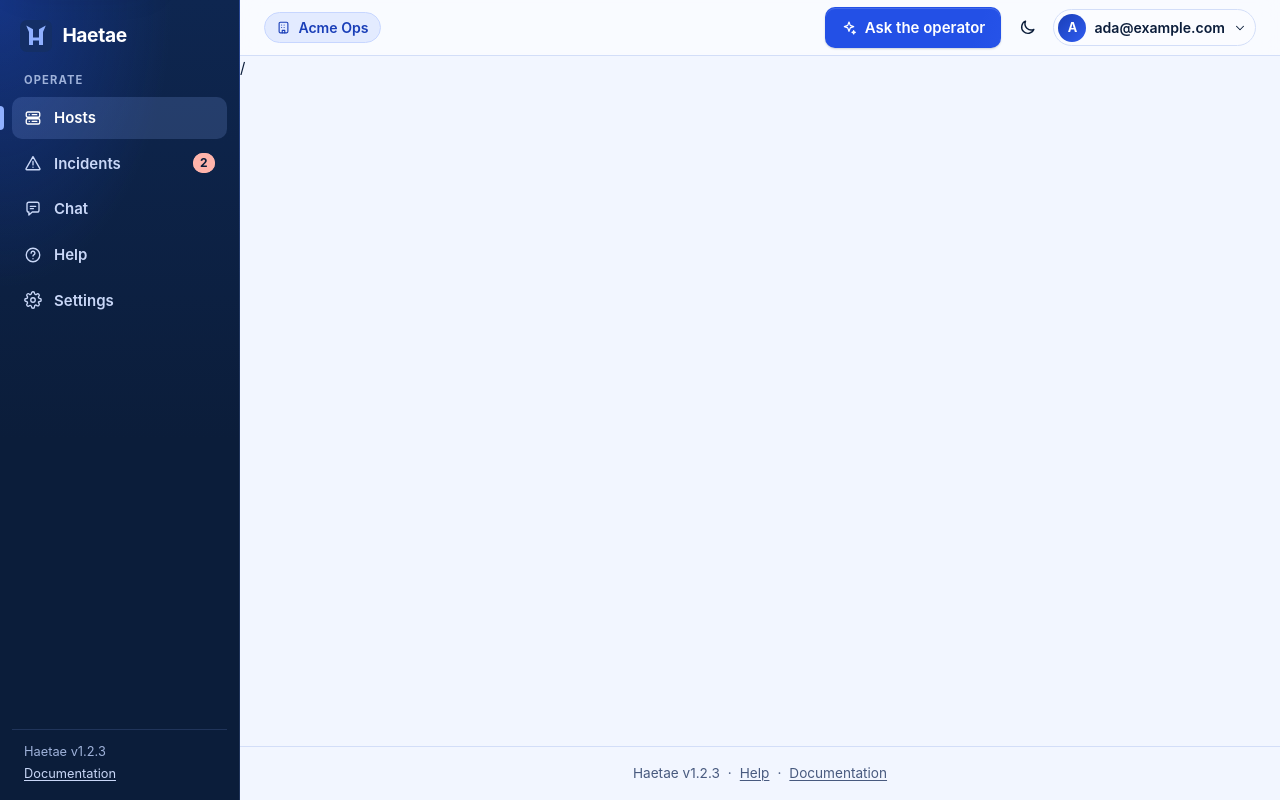
Test case: Layout › shows the organisation and an account menu
The width and height of the screenshot is (1280, 800).
Expected: the text "Acme Ops" is shown, x1=298 y1=17 x2=368 y2=38
Click the button "A ada@example.com": x=1155, y=28 x1=1054 y1=9 x2=1256 y2=46
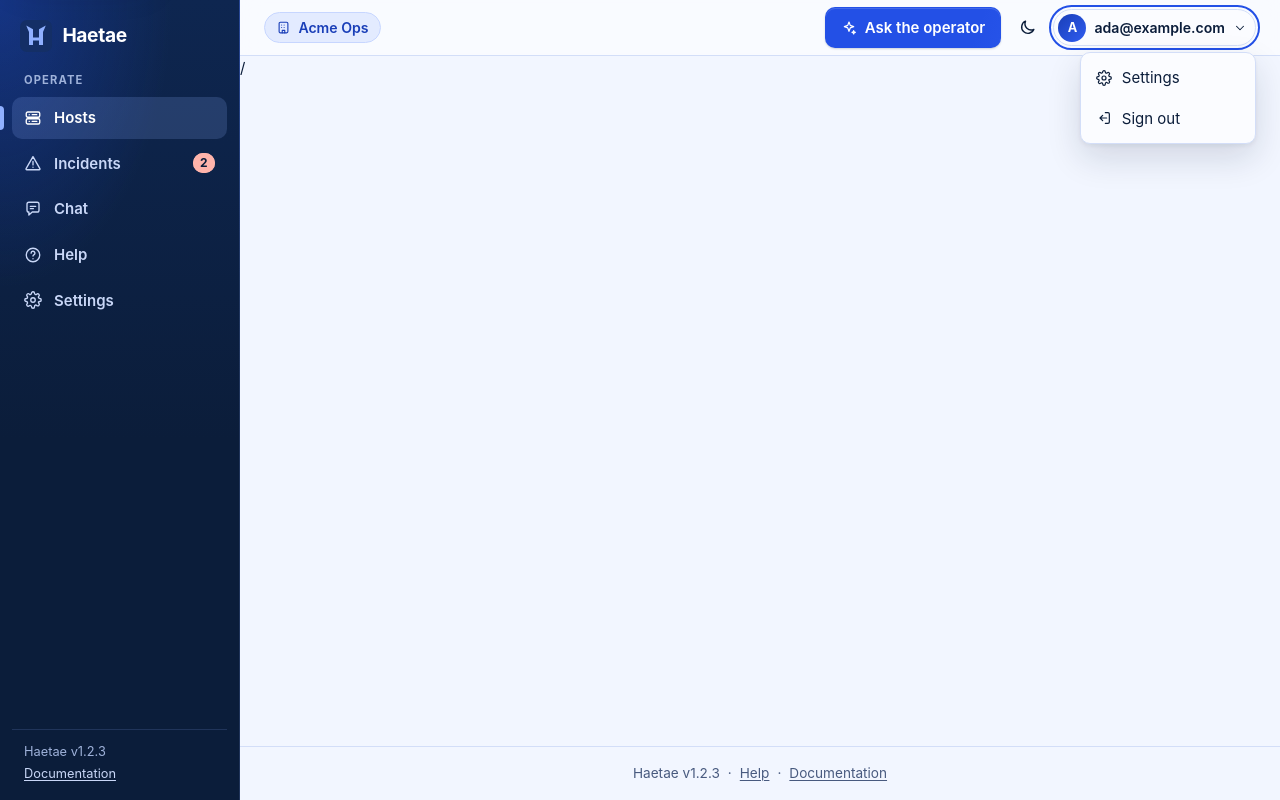
Expected: the menu item "Sign out" is shown, x1=1085 y1=98 x2=1251 y2=139
